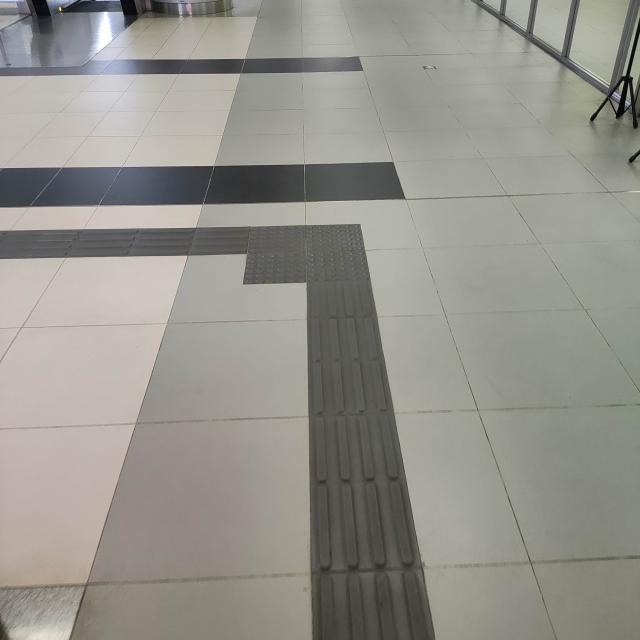kiri: (179, 201, 401, 316)
